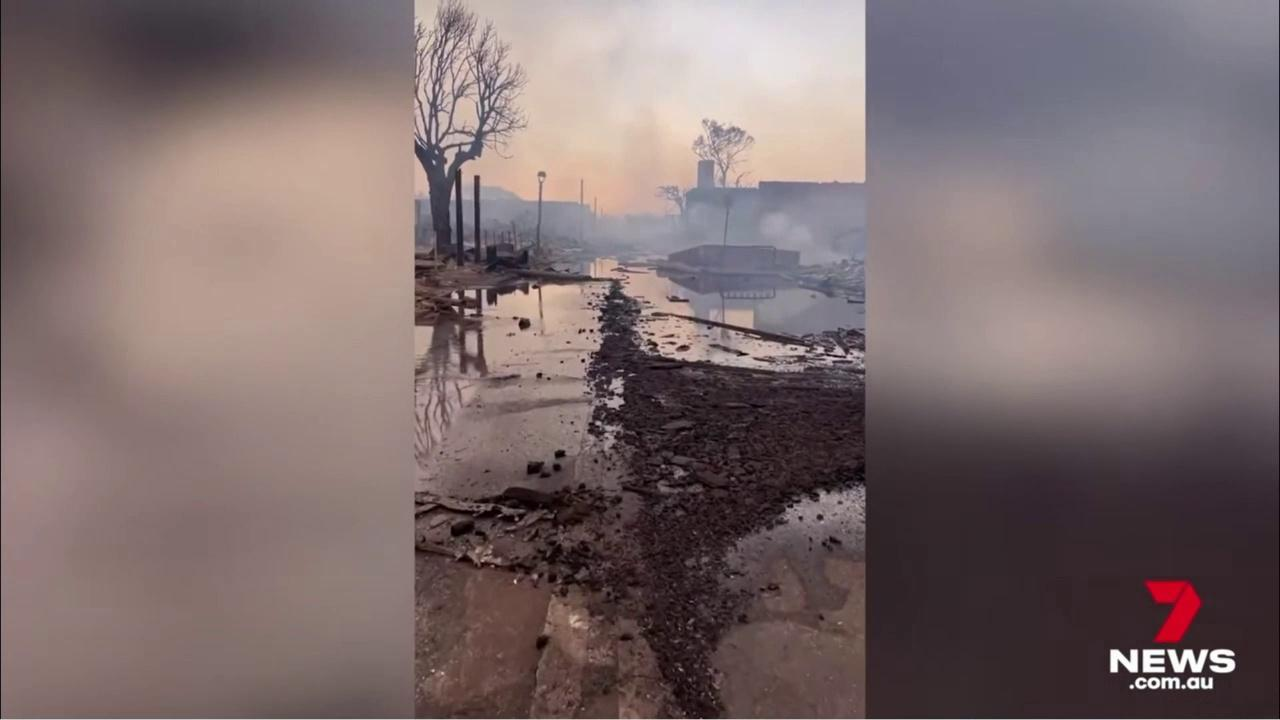smoke: (416, 0, 864, 268)
